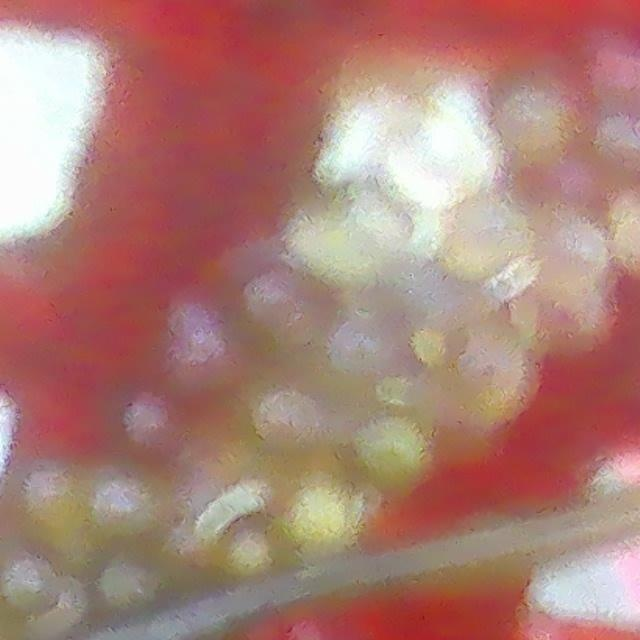SeaGrape: (435, 188, 537, 283), (353, 407, 441, 498), (532, 213, 611, 289)
